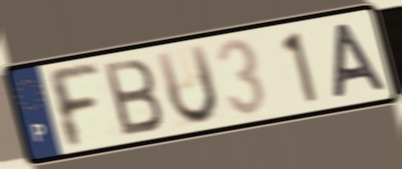1: (280, 27, 320, 106)
3: (214, 34, 270, 120)
A: (332, 21, 390, 102)
B: (100, 55, 167, 139)
F: (41, 61, 103, 152)
U: (153, 40, 221, 129)
